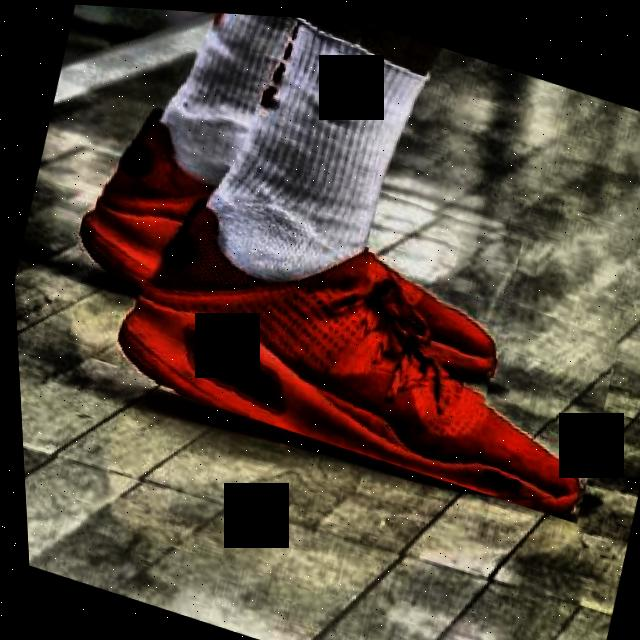shoe: (96, 163, 630, 520), (61, 92, 529, 400)
